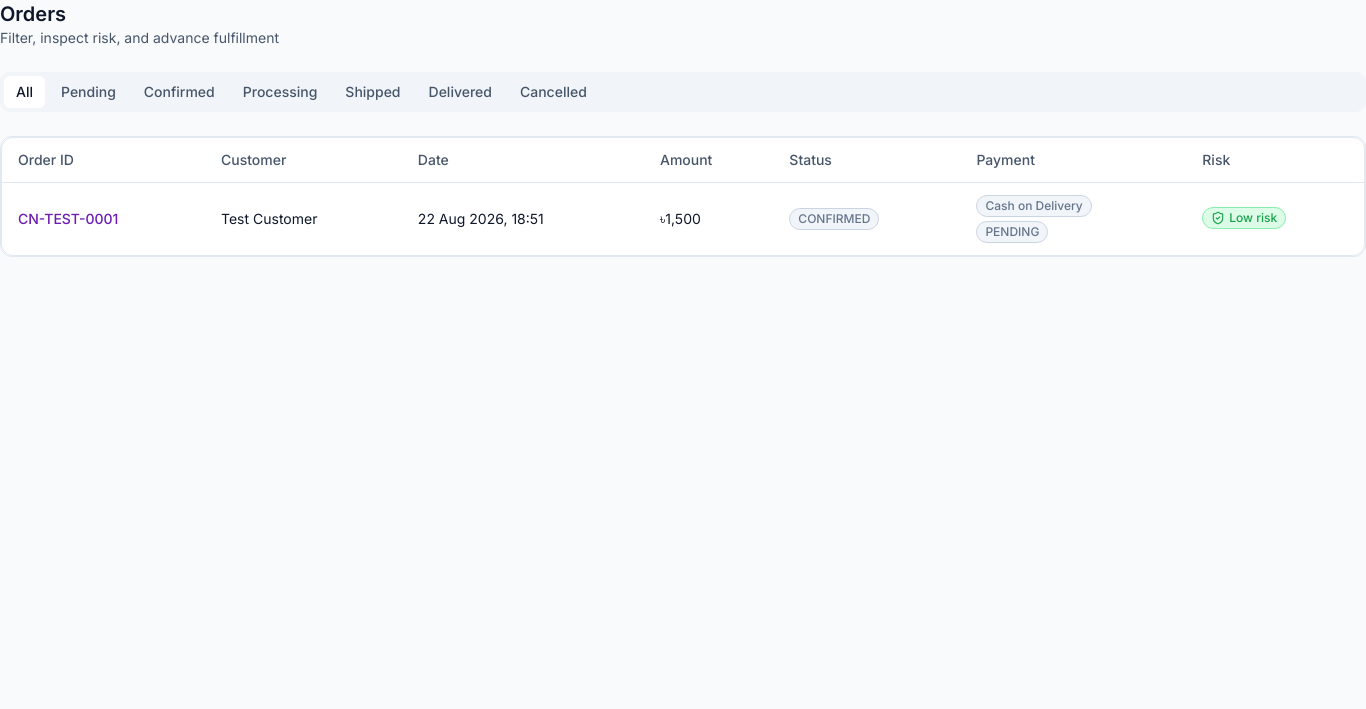
Test case: OrdersPage › clicking anywhere on a row (not just the order ID) opens the detail drawer
Click the text "Test Customer": (303, 218) [205,182,402,254]
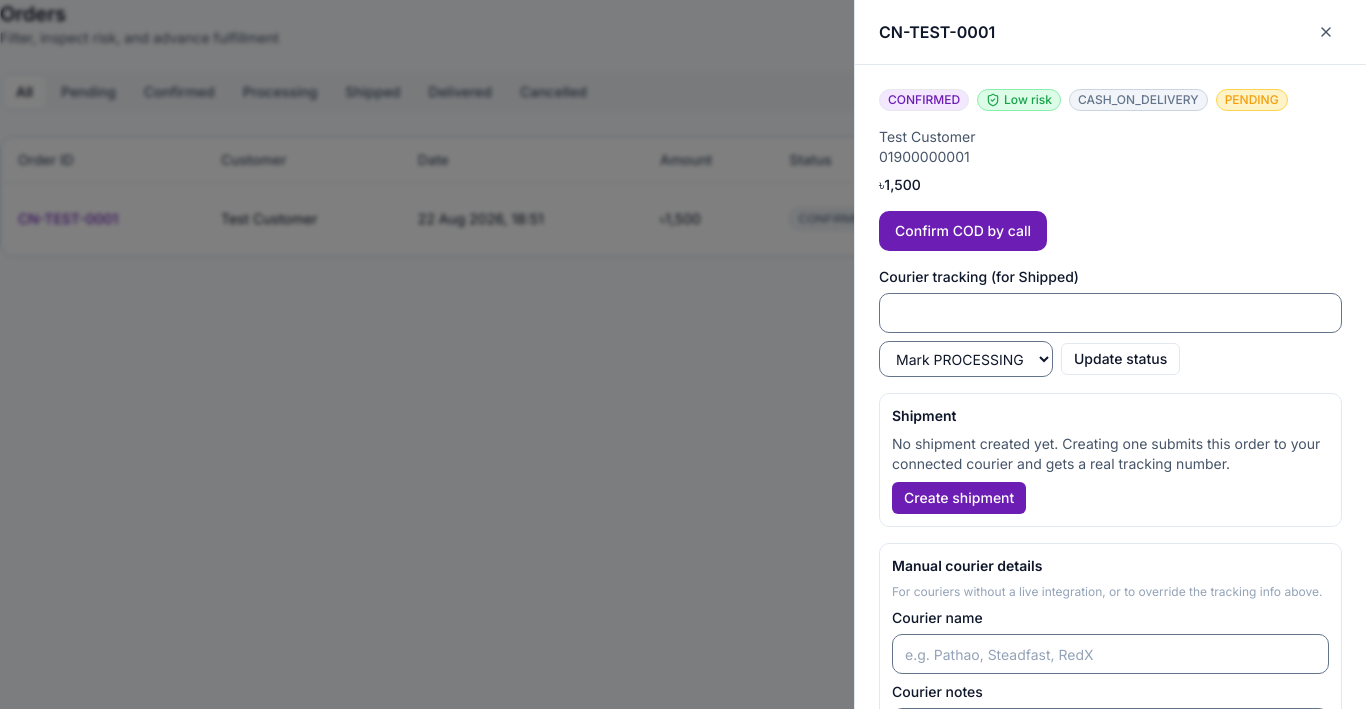
Expected: the text "01900000001" is shown, [879,148,970,165]
